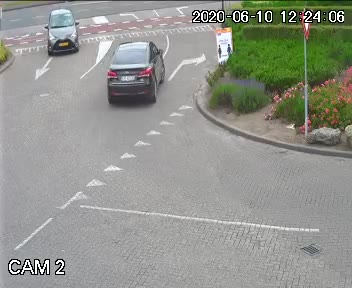car: (111, 38, 164, 109), (42, 9, 78, 55)
